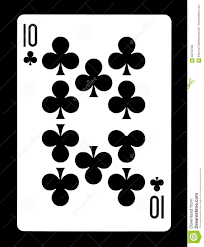ten of clubs: (16, 13, 170, 233)
